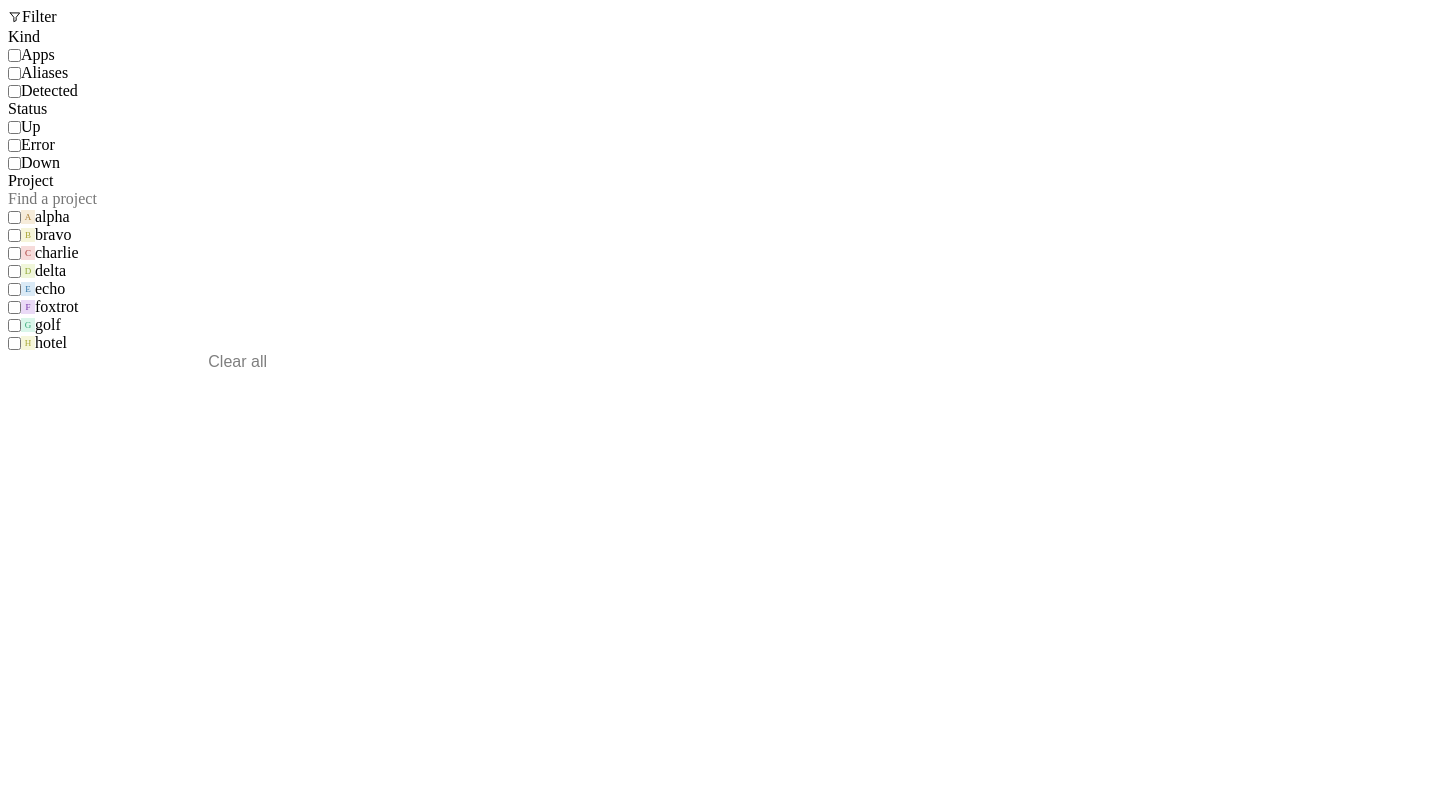
Scenario: FilterMenu › adds a project search when there are more than 6 projects
Type "o" into the search field labelled "Find a project" at coordinates (138, 199), box top-left (8, 190), bottom-right (268, 208)
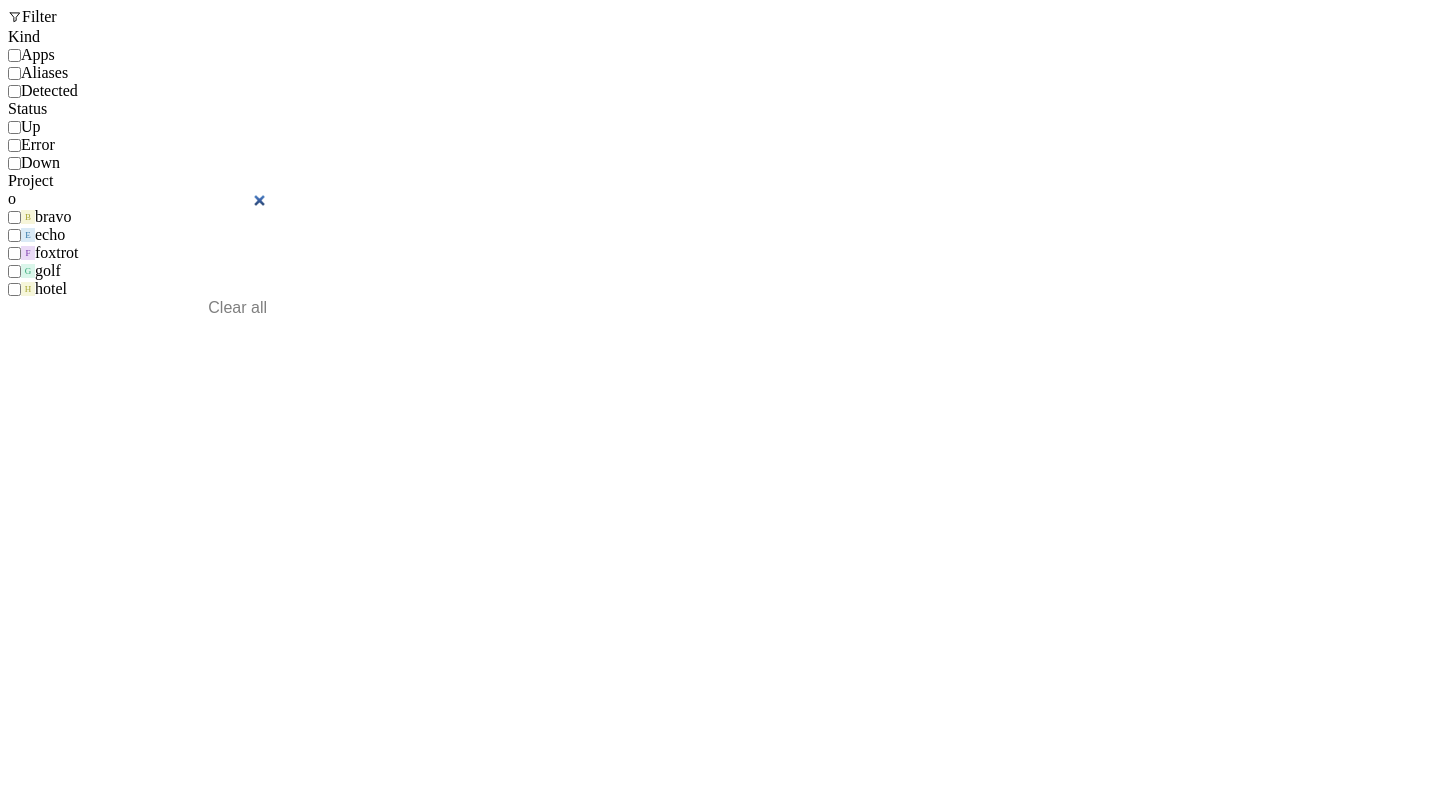
Type "zz" into the search field named "Find a project" at coordinates (138, 199), box top-left (8, 190), bottom-right (268, 208)
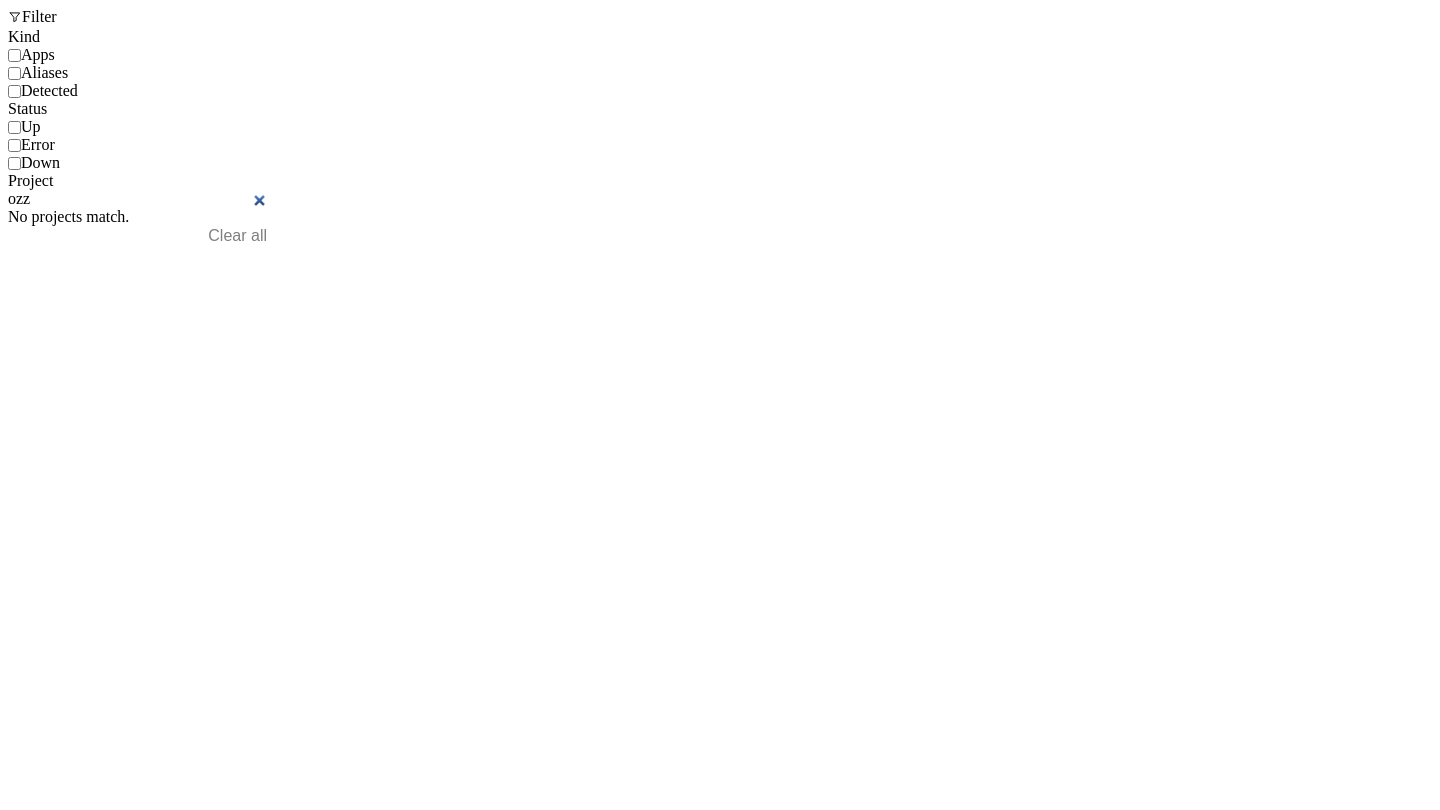
Expected: the text "No projects match." is shown, top-left (8, 208), bottom-right (129, 225)
